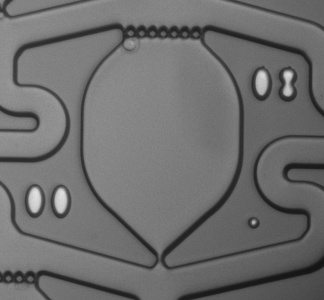AptNum: (246, 59, 306, 107)
Marker: (243, 212, 265, 233)
StNum: (17, 176, 81, 227)
Trap: (132, 257, 189, 300)
